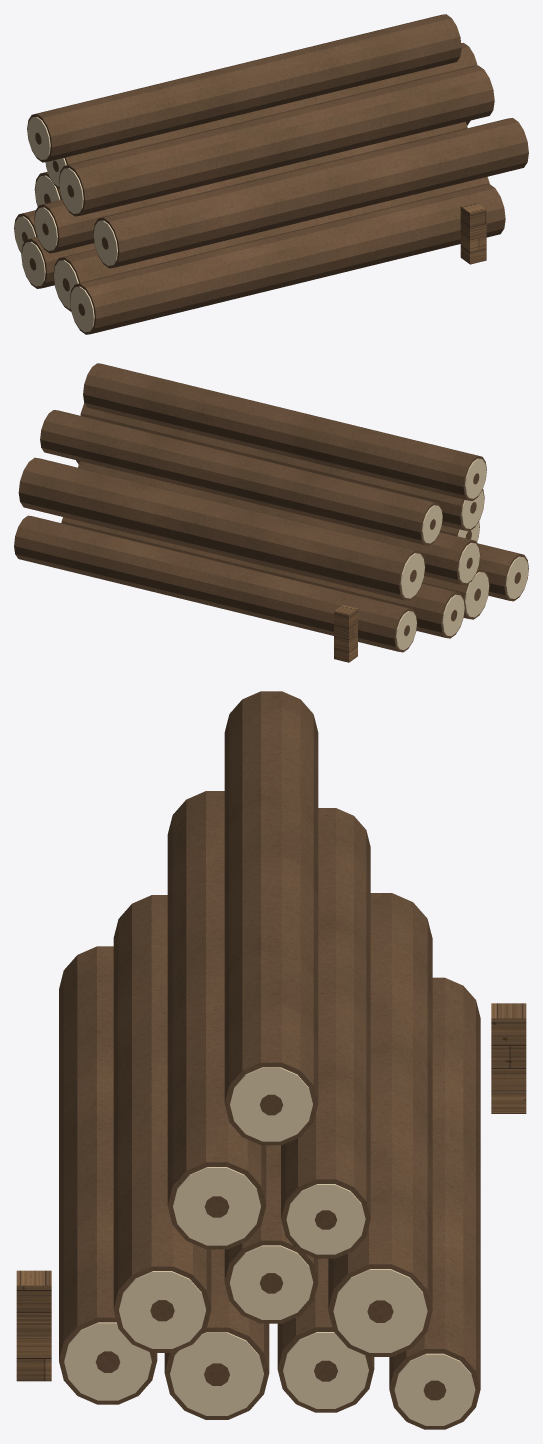
Rendered from log_pile_b.glb.
3 renders of one model, top to bottom at view 1: azimuth 30°, elevation 25°; view 2: azimuth 150°, elevation 25°; view 3: azimuth 270°, elevation 25°, orthographic. The views are drawn at different scales.
Visible parts, largest first — view 1: log_pile_b_bark, log_pile_b_log_end, log_pile_b_post; view 2: log_pile_b_bark, log_pile_b_log_end, log_pile_b_post; view 3: log_pile_b_bark, log_pile_b_log_end, log_pile_b_post.
Part boxes in pixels (bbox=[...]): log_pile_b_bark: bbox=[14, 14, 528, 334]; log_pile_b_log_end: bbox=[14, 117, 117, 332]; log_pile_b_post: bbox=[460, 202, 486, 264]; log_pile_b_bark: bbox=[14, 363, 528, 652]; log_pile_b_log_end: bbox=[396, 458, 528, 649]; log_pile_b_post: bbox=[334, 605, 357, 662]; log_pile_b_bark: bbox=[59, 691, 480, 1429]; log_pile_b_log_end: bbox=[64, 1067, 475, 1425]; log_pile_b_post: bbox=[16, 1003, 526, 1381].
Size of the model in its own units: 5.51 by 2.18 by 2.9.
Materials: 3 (2 with a texture image).
